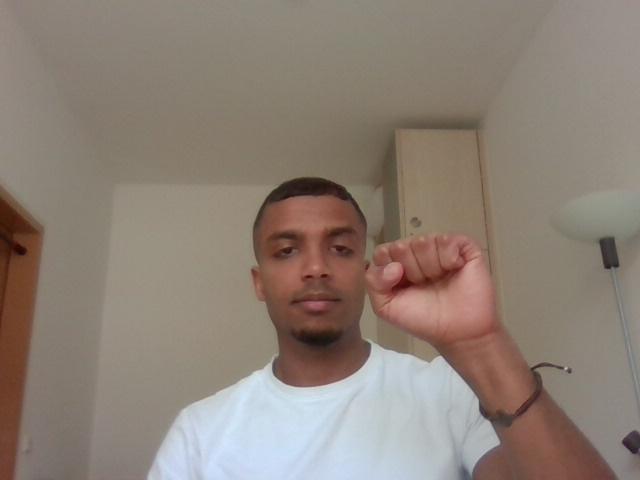maybe: (363, 227, 519, 354)
